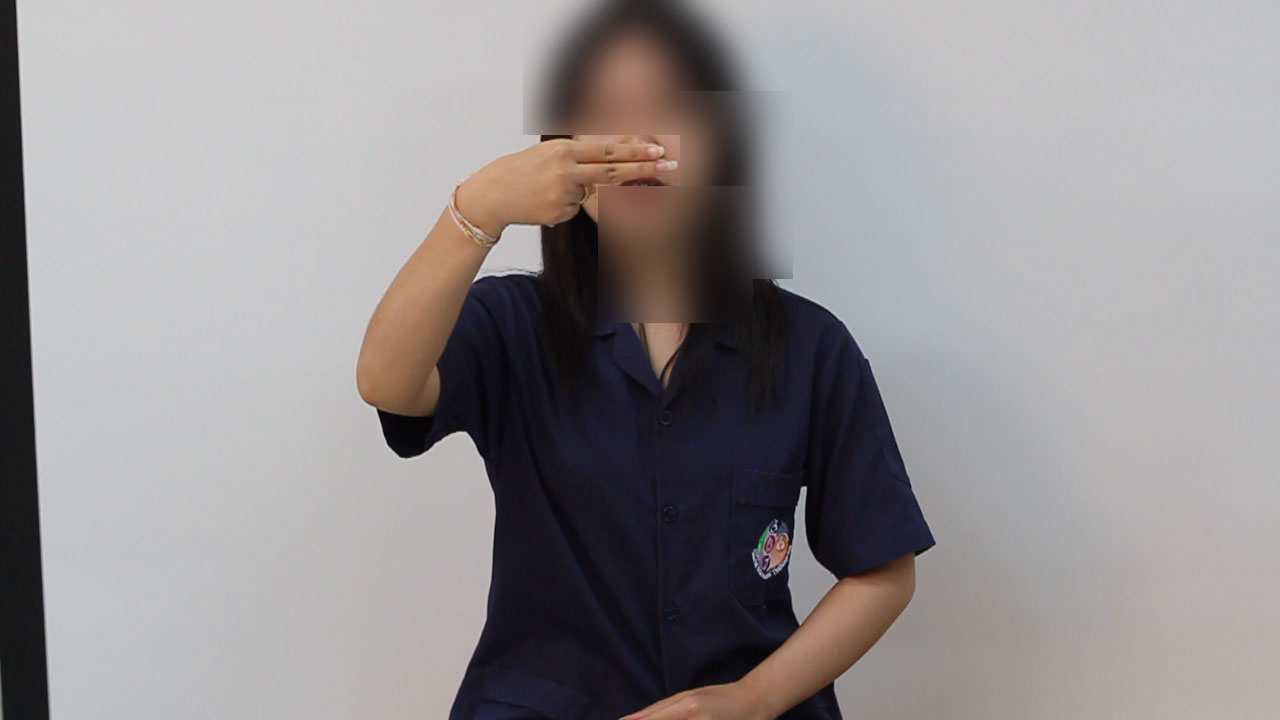hor: (427, 133, 685, 254)
